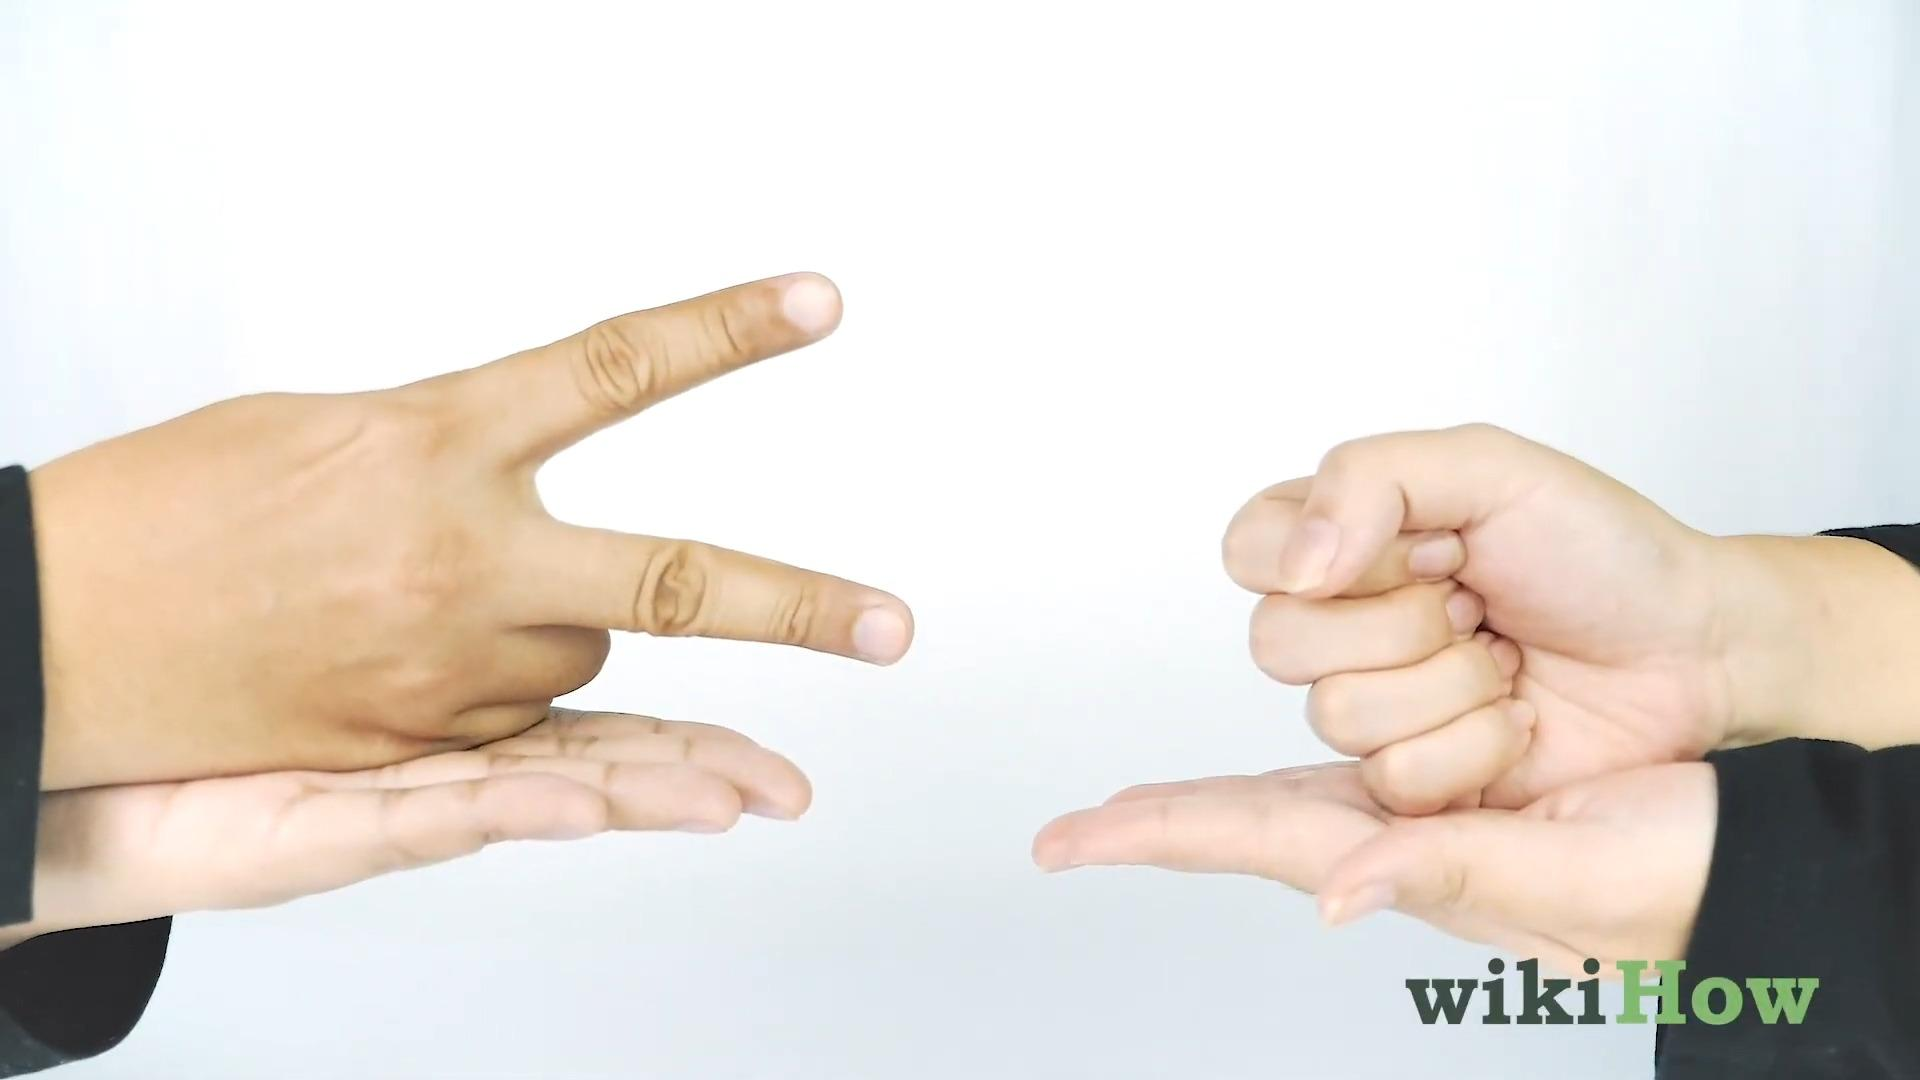Rock: (1230, 415, 1734, 819)
Scissors: (47, 260, 911, 777)
